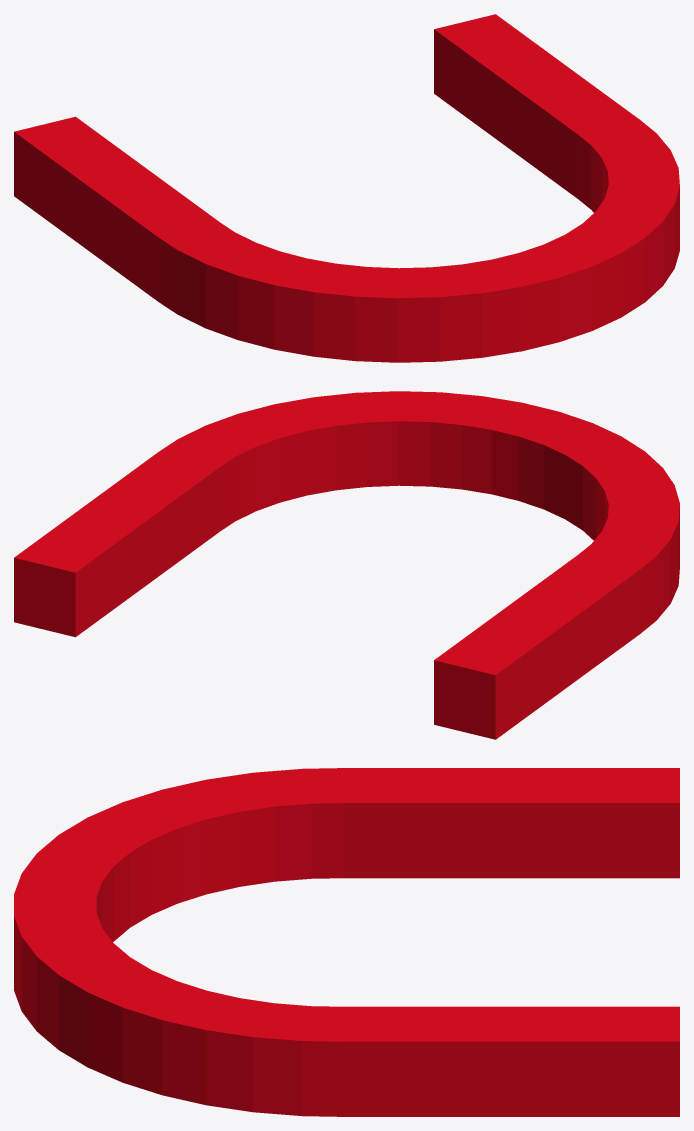
The picture shows the model from 3 angles, top to bottom: view 1: azimuth 30°, elevation 25°; view 2: azimuth 150°, elevation 25°; view 3: azimuth 270°, elevation 25°; orthographic projection. The views are drawn at different scales.
Visible parts, largest first — view 1: Cube; view 2: Cube; view 3: Cube.
Boxes of the visible parts, bbox=[...] form: Cube: bbox=[14, 14, 679, 362]; Cube: bbox=[14, 391, 679, 739]; Cube: bbox=[14, 768, 679, 1116].
Bounding box in the file's own units: 2519 × 322 × 2590.
